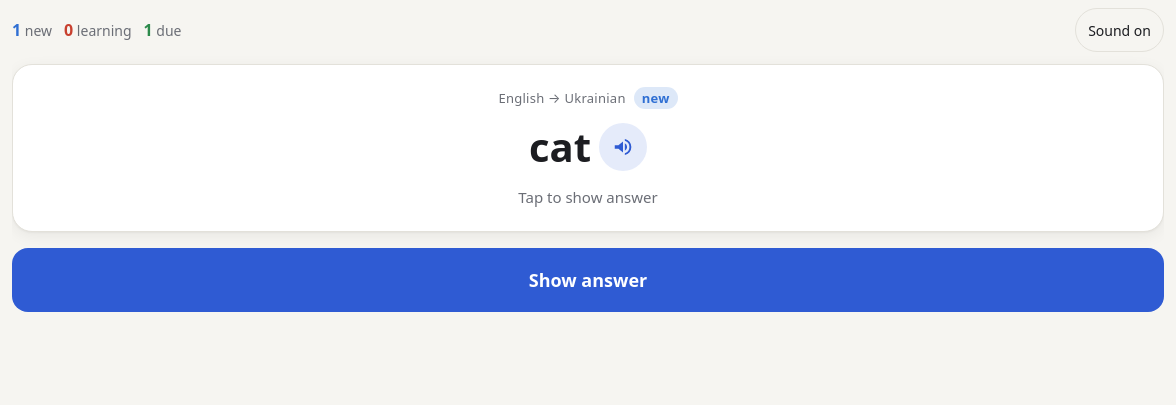
Test: ReviewScreen › offers a retry when a review can't be saved, reusing the same ID
Check: the text "cat" is shown, box [529,123,591,171]
Type keys " "
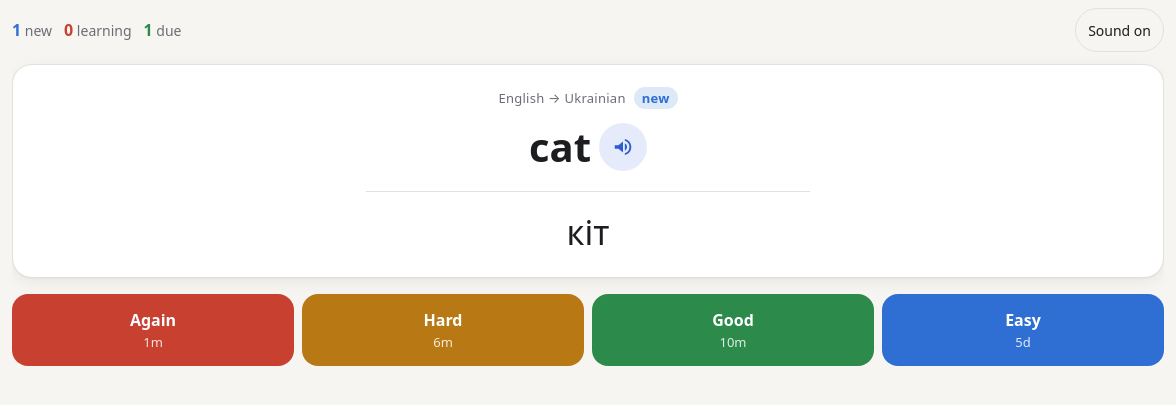
Type keys "3"
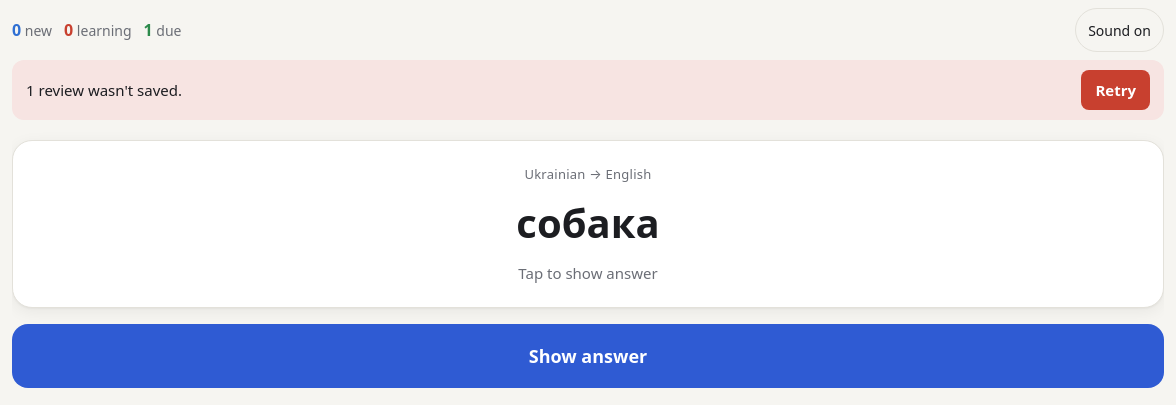
Check: the message shows "1 review wasn't saved", box [12,60,1164,120]
Click the button "Retry": (1116, 90) [1081,70,1150,110]
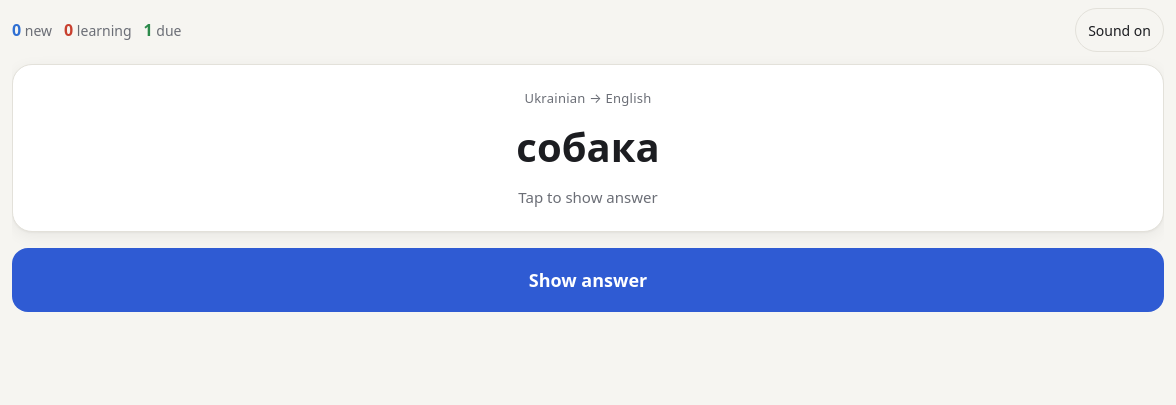
Check: the message "1 review wasn't saved. Retry" is gone
